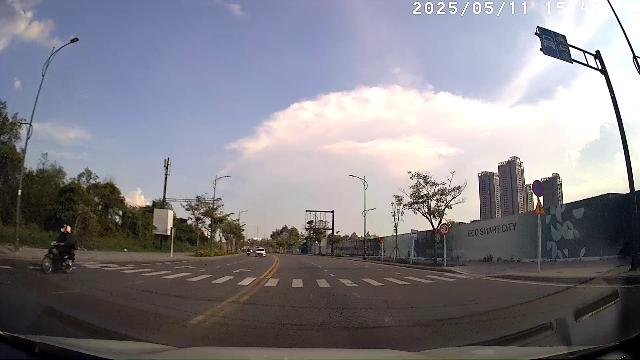127-toc-do-toi-da-50: (439, 223, 450, 235)
131a-cam-do-xe: (531, 180, 545, 197)
